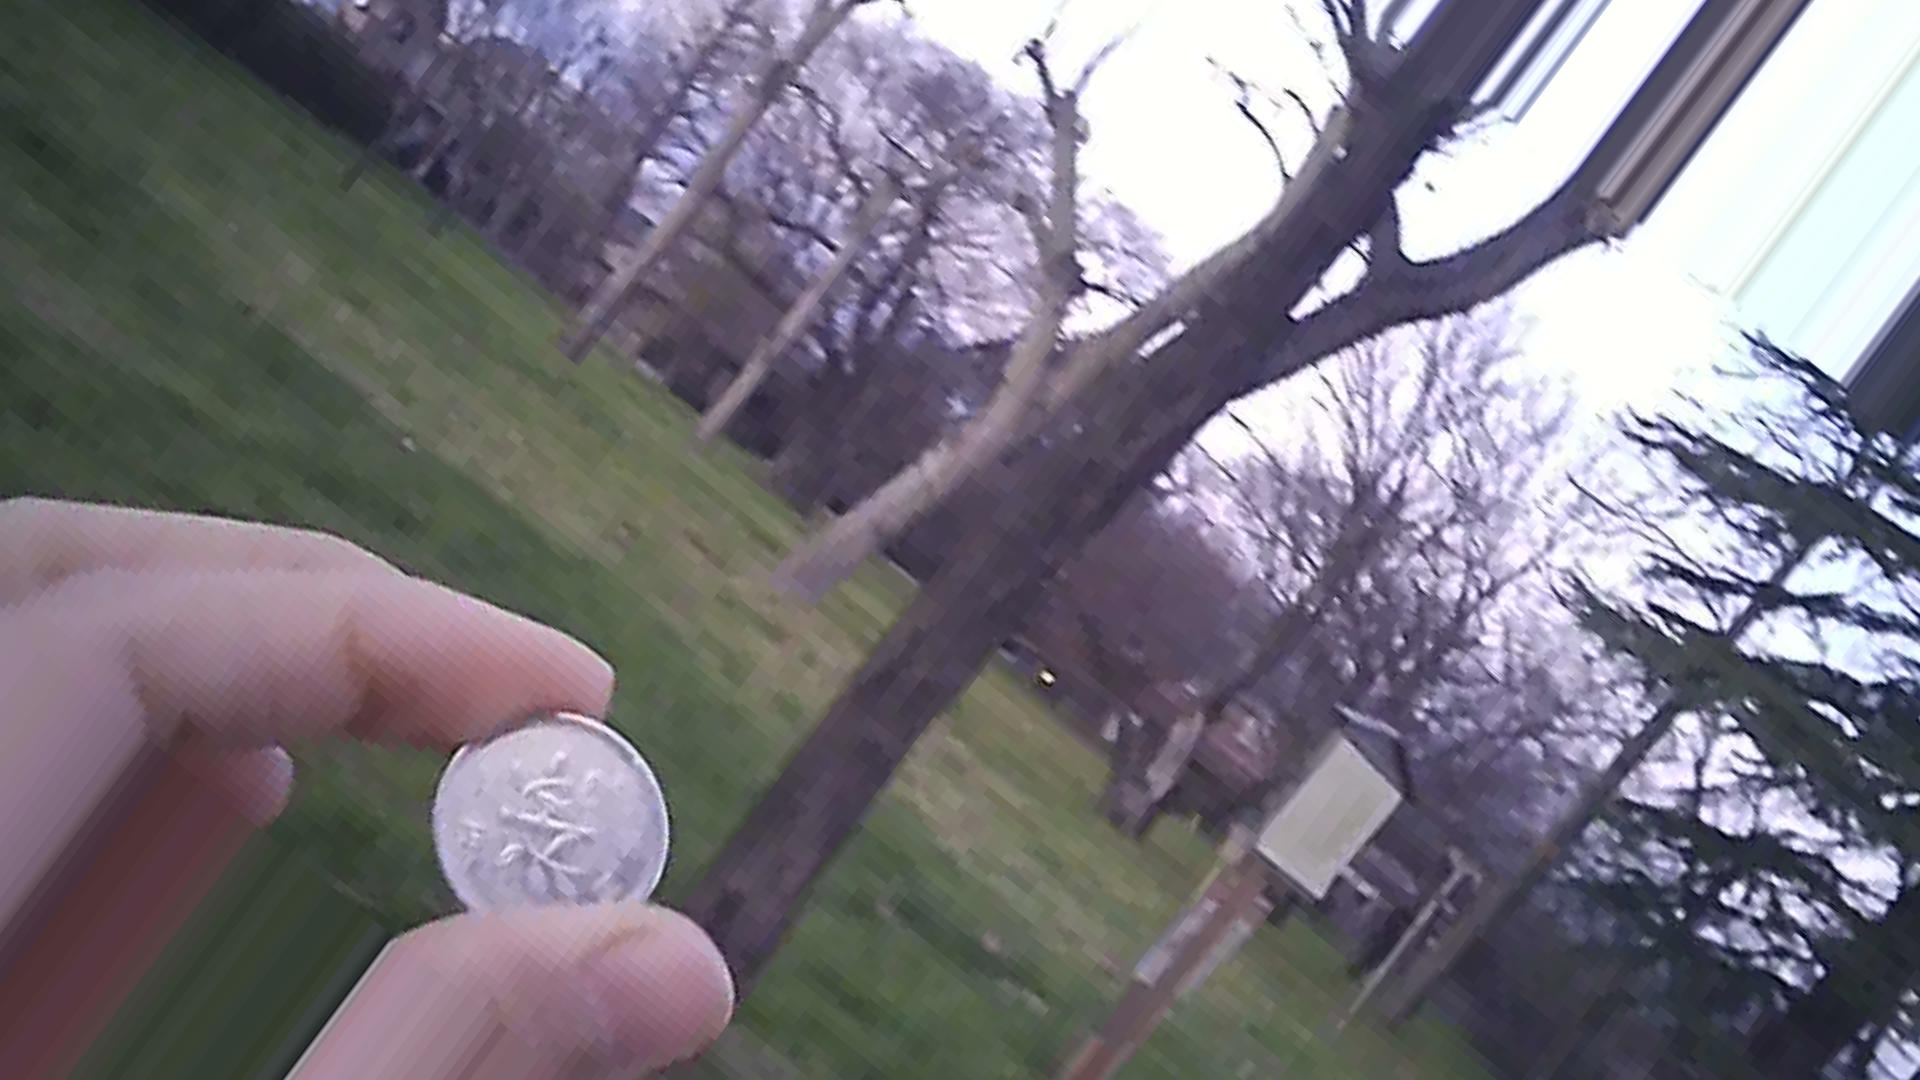1 Yen: (419, 702, 667, 914)
